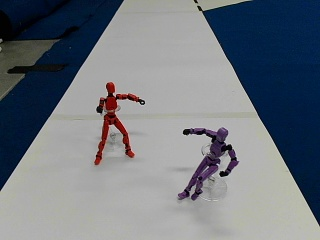pedestrian: (178, 124, 238, 199), (94, 82, 143, 164)
